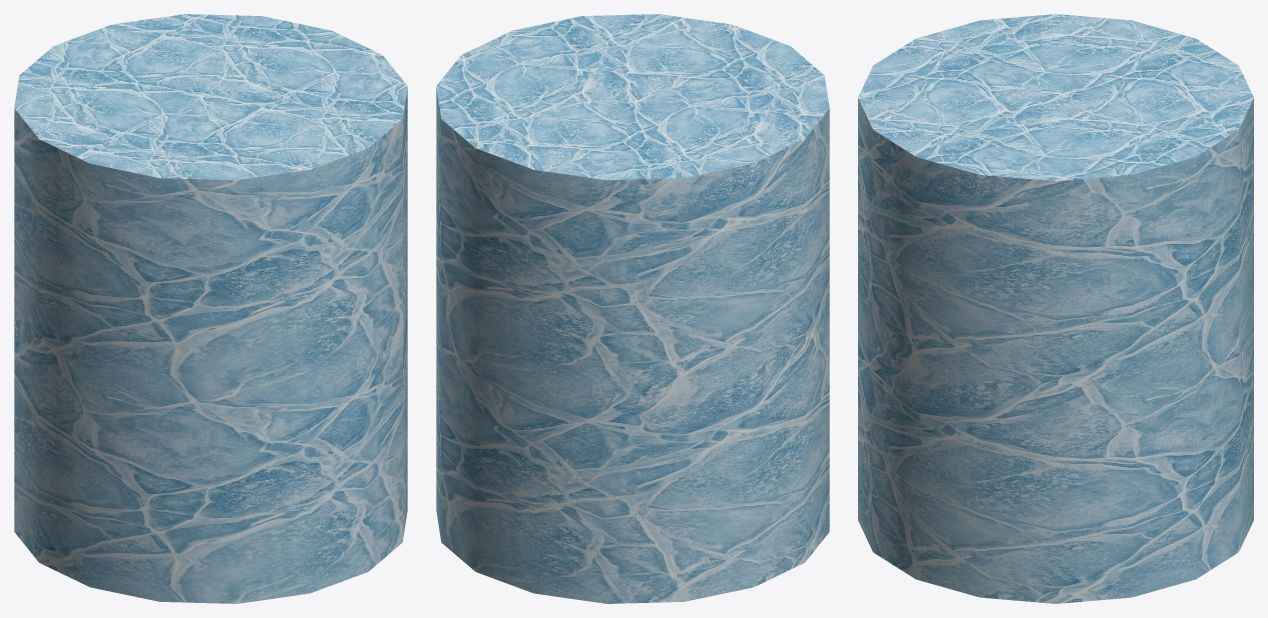
Rendered from soft-segment-before-rounded.obj.
3 renders of one model, left to right at view 1: azimuth 30°, elevation 25°; view 2: azimuth 150°, elevation 25°; view 3: azimuth 270°, elevation 25°, orthographic.
Parts seen in each view (by area): view 1: IceJellyfishSoftSegment; view 2: IceJellyfishSoftSegment; view 3: IceJellyfishSoftSegment.
Boxes of the visible parts, x1,y1,x2,y2 form: IceJellyfishSoftSegment: (14,14,407,603); IceJellyfishSoftSegment: (436,14,829,603); IceJellyfishSoftSegment: (858,14,1253,603).
Bounding box in the file's own units: 0.9 × 1.06 × 0.9.
